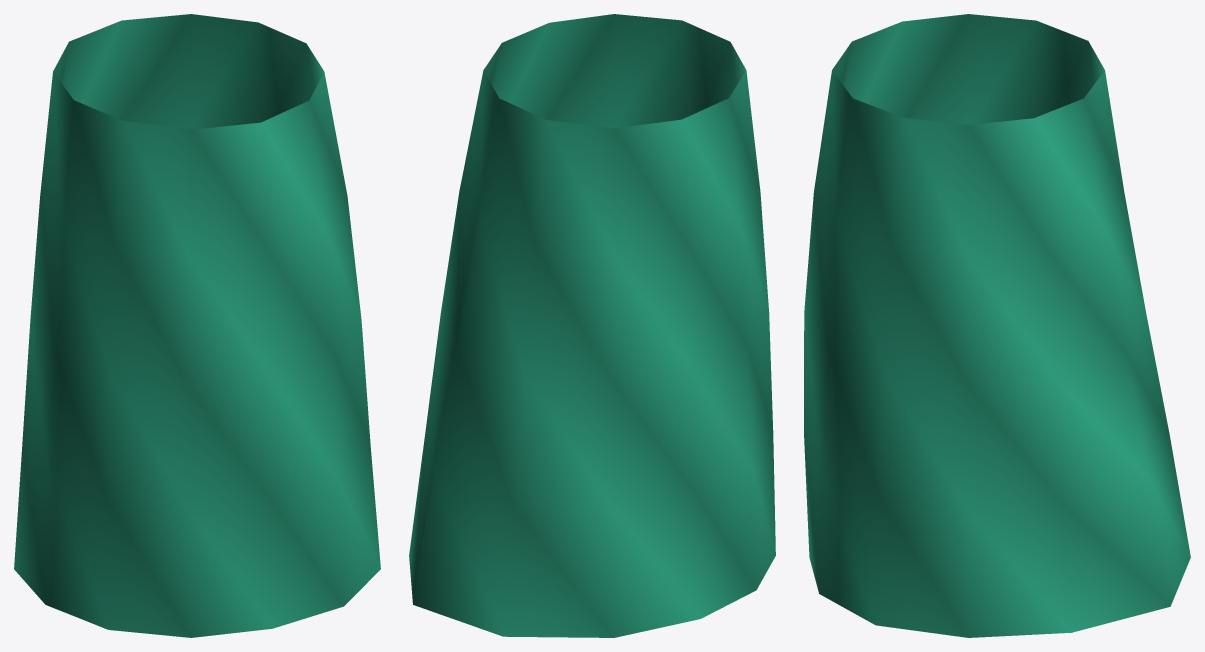
Rendered from mythril_armor_cuisse.L.glb.
3 views of the same model, side by side, from view 1: azimuth 30°, elevation 25°; view 2: azimuth 150°, elevation 25°; view 3: azimuth 270°, elevation 25° (orthographic). The views are drawn at different scales.
Parts seen in each view (by area): view 1: mythril_armor_cuisse.L; view 2: mythril_armor_cuisse.L; view 3: mythril_armor_cuisse.L.
Boxes of the visible parts, x1,y1,x2,y2 form: mythril_armor_cuisse.L: (14, 14, 380, 637); mythril_armor_cuisse.L: (409, 14, 775, 637); mythril_armor_cuisse.L: (804, 14, 1190, 637).
Bounding box in the file's own units: 0.2446 × 0.37 × 0.2662.
